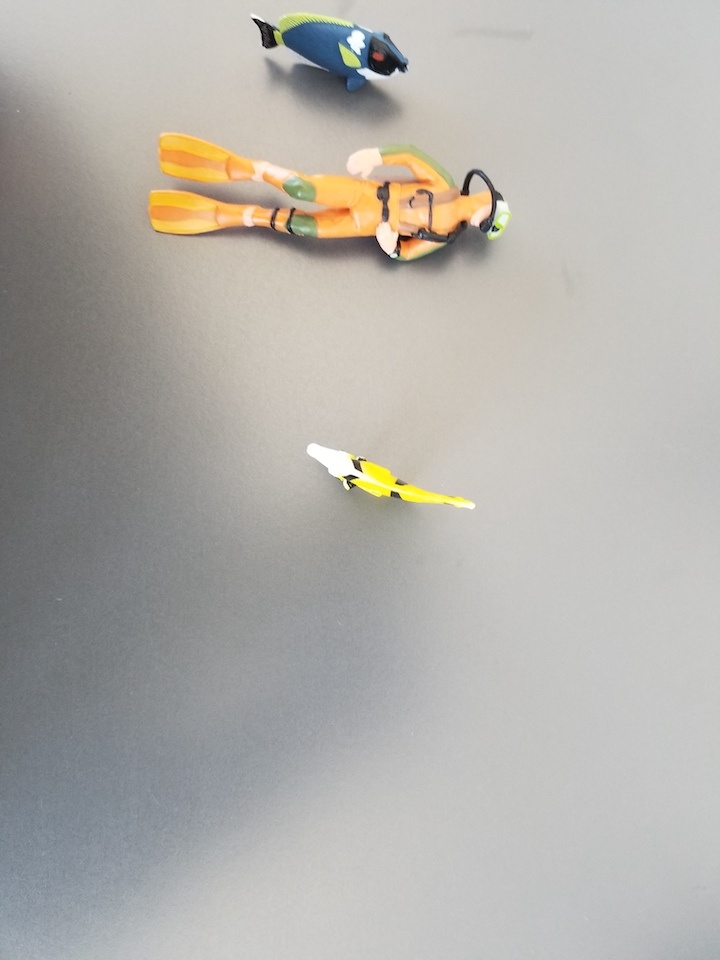danger: (304, 441, 480, 515)
diver: (148, 128, 512, 264)
fish: (249, 9, 412, 97)
